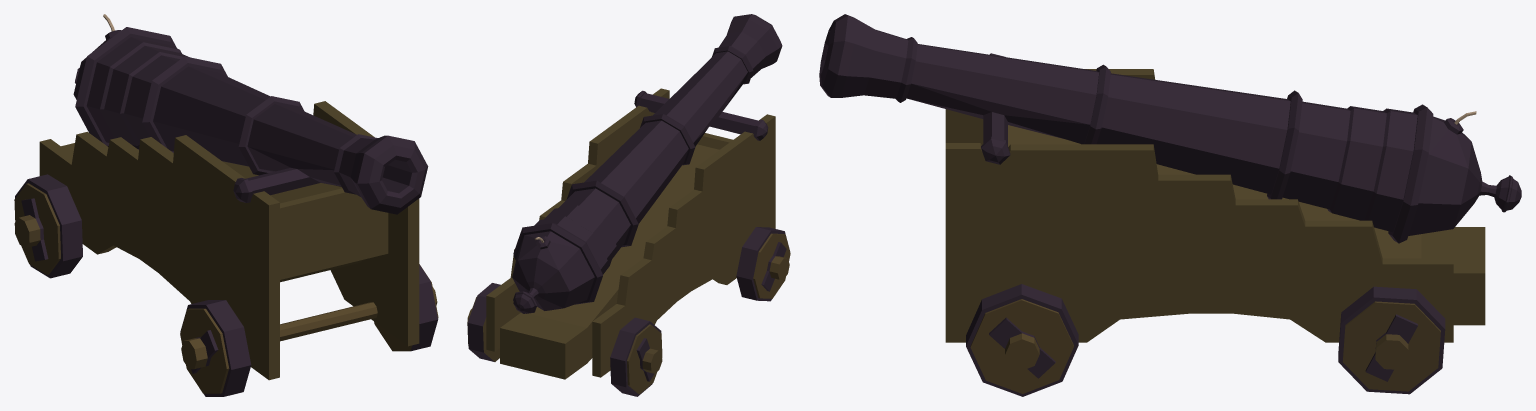
Rendered from Cannon.fbx.
3 renders of one model, left to right at view 1: azimuth 30°, elevation 25°; view 2: azimuth 150°, elevation 25°; view 3: azimuth 270°, elevation 25°, orthographic. The views are drawn at different scales.
Visible parts, largest first — view 1: Cannon, CannonBarrel, CannonWheelsFront, CannonWheelsBack; view 2: Cannon, CannonBarrel, CannonWheelsBack, CannonWheelsFront; view 3: Cannon, CannonBarrel, CannonWheelsFront, CannonWheelsBack.
Part boxes in pixels (<box>): Cannon: <box>39,101,419,380</box>; CannonBarrel: <box>73,14,428,214</box>; CannonWheelsFront: <box>180,264,438,396</box>; CannonWheelsBack: <box>14,174,82,278</box>; Cannon: <box>486,88,775,379</box>; CannonBarrel: <box>512,14,782,313</box>; CannonWheelsBack: <box>467,283,662,396</box>; CannonWheelsFront: <box>736,227,790,301</box>; Cannon: <box>945,69,1485,342</box>; CannonBarrel: <box>819,14,1521,243</box>; CannonWheelsFront: <box>966,284,1078,396</box>; CannonWheelsBack: <box>1338,286,1445,394</box>.
Size of the model in its own units: 65.66 by 76.62 by 150.
